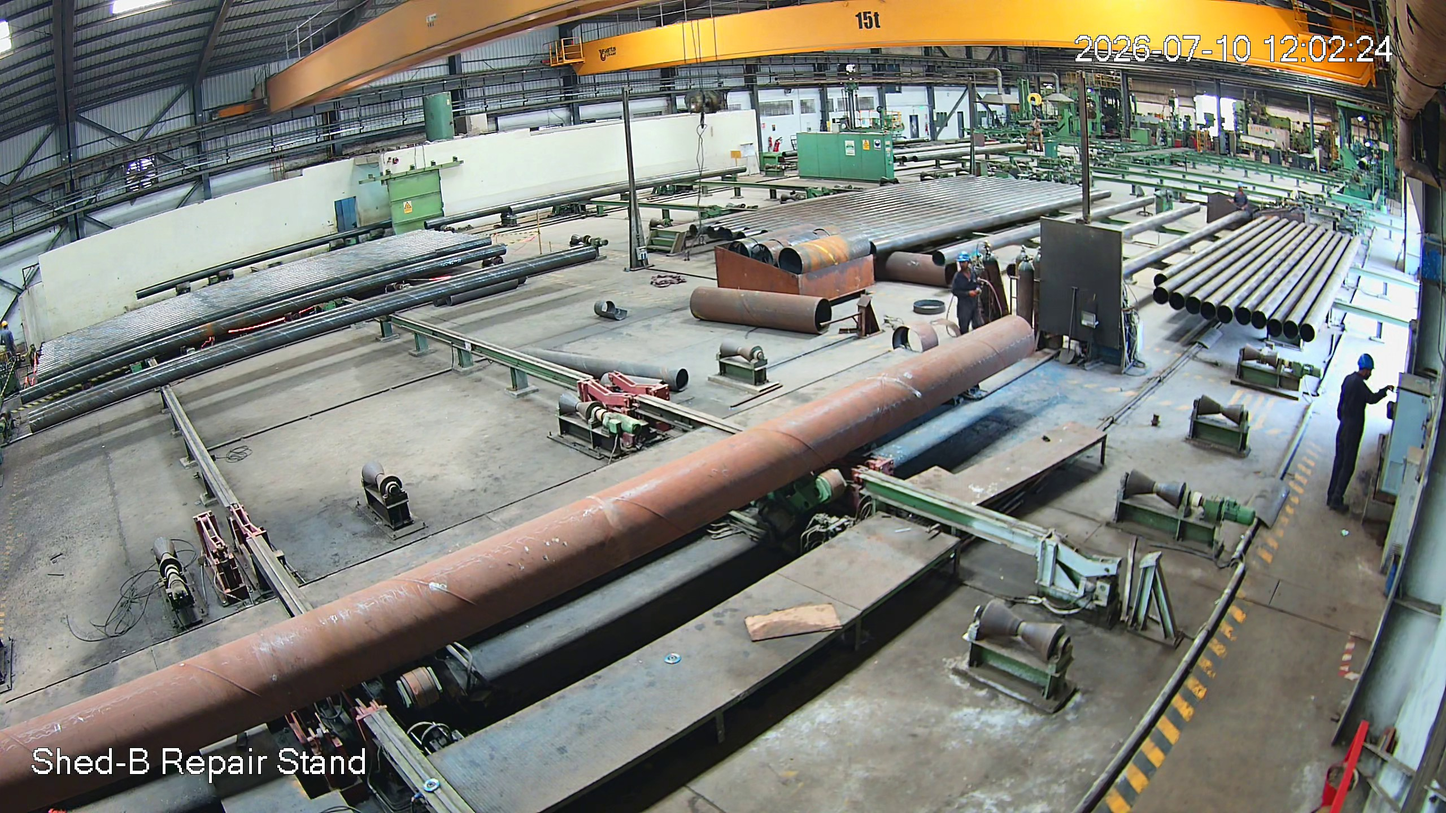Helmet: (1352, 352, 1378, 387), (955, 249, 973, 274)
Person: (1324, 354, 1384, 522), (947, 252, 983, 331)
